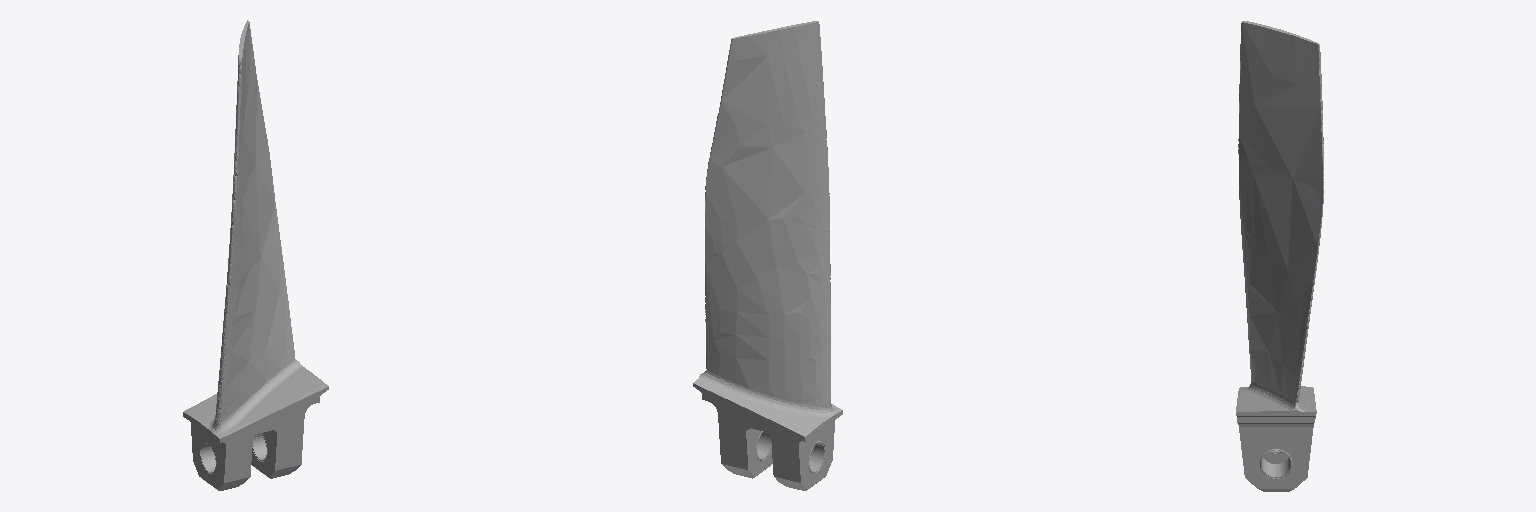
robot.urdf — myobj:
<robot name="myobj">
  <link name="tray_base_link">
    <contact>
      <lateral_friction value="0.5"/>
      <rolling_friction value="0.0"/>
      <contact_cfm value="0.0"/>
      <contact_erp value="1.0"/>
    </contact>
    <inertial>
      <origin rpy="0 0 0" xyz="0 0 0"/>
      <mass value="0"/>
      <inertia ixx="0" ixy="0" ixz="0" iyy="0" iyz="0" izz="0"/>
    </inertial>
    <visual>
      <origin rpy="0 0 0" xyz="0 0 0"/>
      <geometry>
        <mesh filename="../mould/blade4.obj" scale="0.002 0.002 0.002"/>
      </geometry>
      <material name="tray_material">
        <color rgba="0.7 0.7 0.7 1"/>
      </material>
    </visual>
    <collision>
      <origin rpy="0 0 0" xyz="0 0 0"/>
      <geometry>
        <mesh filename="../mould/blade4.obj" scale="0.002 0.002 0.002"/>
      </geometry>
    </collision>
  </link>
</robot>

--- What the picture shows (computed from the rendered views, not written in the file) ---
Views: 3 orthographic renders of the robot side by side, from view 1: azimuth 30°, elevation 25°; view 2: azimuth 150°, elevation 25°; view 3: azimuth 270°, elevation 25°.
Model myobj with 1 links and 0 joints (none), rooted at tray_base_link, posed all joints at 0.
Links seen in each view (by area): view 1: tray_base_link; view 2: tray_base_link; view 3: tray_base_link.
Boxes of the visible links, box(x1,y1,x2,y2) form: tray_base_link: box(183, 20, 328, 490); tray_base_link: box(693, 21, 842, 490); tray_base_link: box(1236, 21, 1323, 491).
Bounding box of the posed robot: 0.1349 × 0.094 × 0.5183 m (x, y, z).
Meshes: 1 distinct files referenced, 1 mesh visuals loaded (1 OBJ).